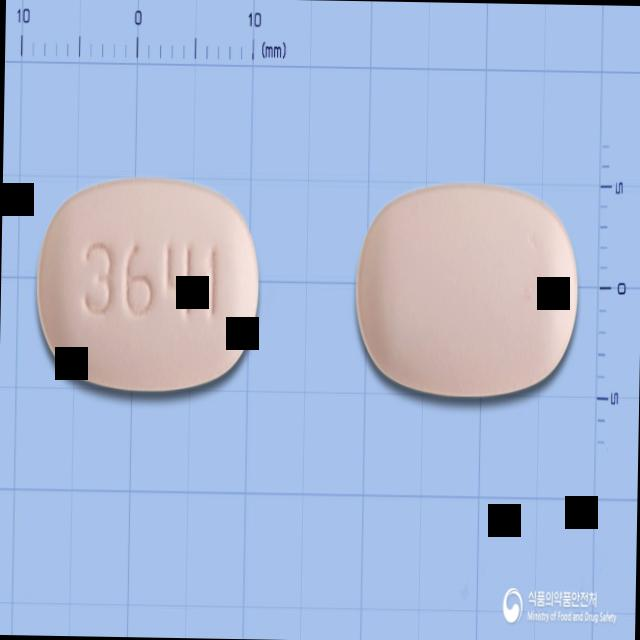Evotaz: (34, 176, 262, 394)
